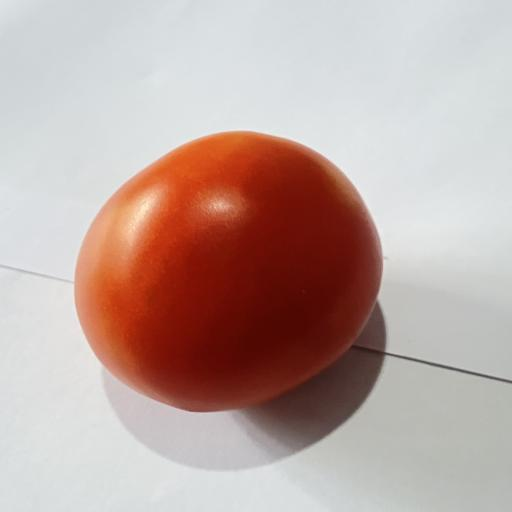ripe: (75, 131, 382, 412)
